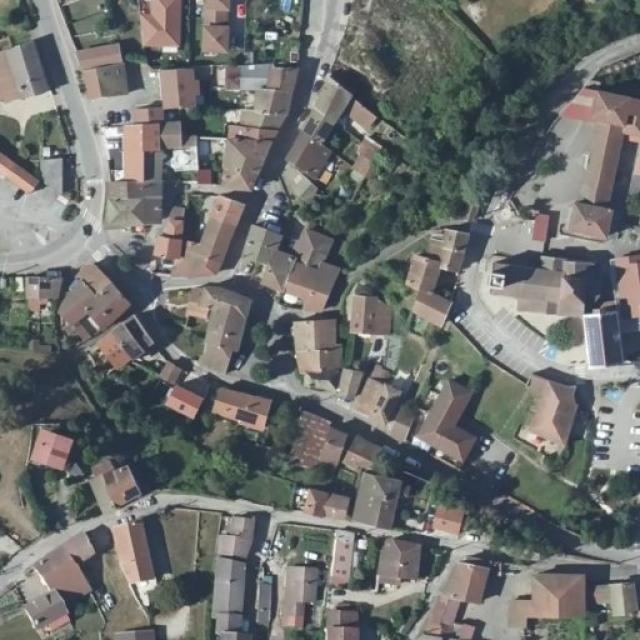maison: (0, 147, 151, 350), (488, 233, 602, 295), (303, 42, 392, 120), (409, 203, 469, 304), (430, 549, 490, 639), (419, 363, 475, 448), (264, 228, 340, 290), (32, 525, 92, 603), (527, 355, 578, 431), (294, 298, 340, 374), (154, 182, 203, 253), (288, 101, 332, 177), (112, 511, 154, 589), (0, 7, 46, 68), (201, 264, 251, 320), (354, 460, 400, 520), (191, 192, 235, 253), (214, 373, 276, 413), (88, 248, 128, 308), (225, 95, 277, 141), (127, 90, 163, 154), (356, 360, 402, 410), (585, 290, 623, 349), (534, 568, 584, 612), (62, 255, 99, 311), (197, 314, 241, 358), (18, 586, 64, 626), (377, 533, 418, 577), (88, 448, 120, 503), (0, 122, 39, 166), (240, 29, 299, 57), (84, 29, 128, 66), (352, 275, 392, 315), (244, 199, 281, 241), (294, 204, 332, 244), (158, 34, 194, 74), (218, 509, 252, 551), (107, 453, 139, 496), (166, 367, 203, 403), (318, 414, 347, 458), (78, 6, 122, 32), (108, 171, 146, 201), (287, 562, 318, 598), (160, 89, 198, 118), (42, 129, 68, 171), (136, 154, 162, 196), (296, 396, 326, 432), (37, 418, 68, 450), (212, 169, 244, 200), (354, 111, 380, 149), (390, 392, 416, 428), (434, 494, 465, 524), (332, 522, 352, 568), (244, 78, 286, 99), (321, 482, 352, 510), (258, 57, 292, 82), (612, 577, 637, 609), (343, 424, 368, 456), (222, 139, 258, 160), (197, 106, 211, 156), (304, 478, 327, 507), (341, 351, 362, 382), (28, 256, 60, 276), (159, 342, 181, 368), (78, 242, 101, 266), (110, 153, 136, 172), (532, 188, 549, 217), (176, 119, 198, 141), (204, 0, 228, 16), (510, 598, 536, 612), (588, 579, 613, 593), (258, 578, 272, 598), (585, 45, 603, 59), (140, 0, 180, 6), (40, 72, 54, 84), (194, 294, 202, 310), (364, 584, 376, 594), (260, 598, 270, 608), (292, 5, 302, 14), (472, 164, 482, 172), (292, 16, 298, 27), (120, 94, 128, 100)
